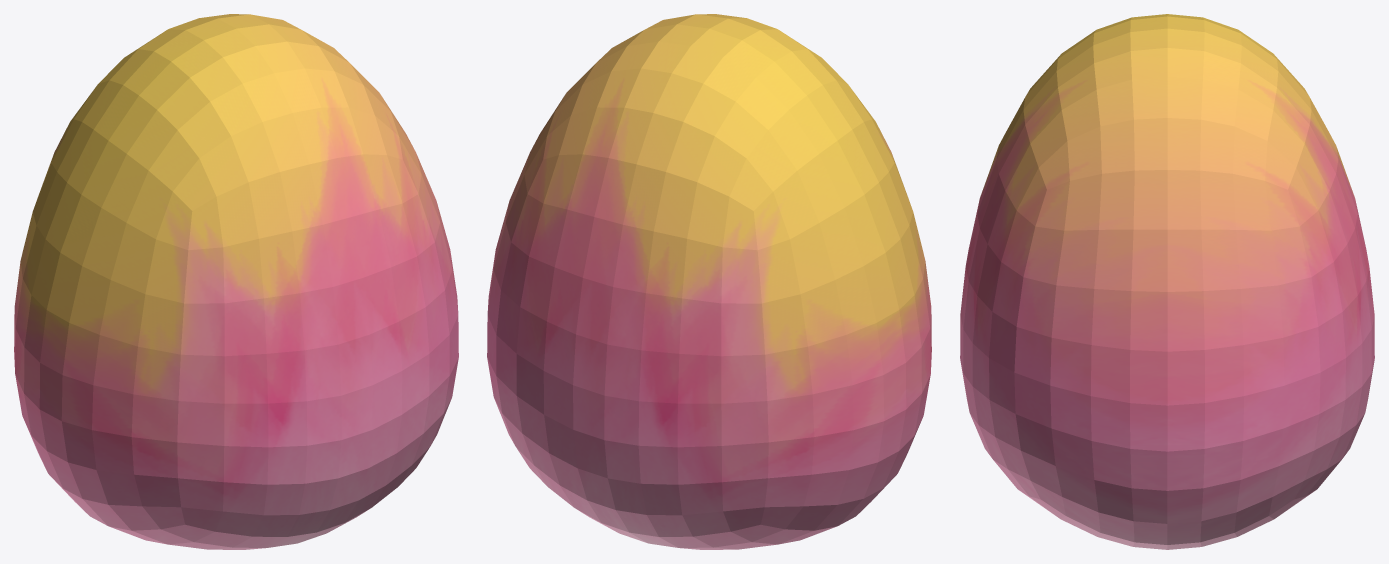
Rendered from Egg_Pink.fbx.
3 renders of one model, left to right at view 1: azimuth 30°, elevation 25°; view 2: azimuth 150°, elevation 25°; view 3: azimuth 270°, elevation 25°, orthographic.
Visible parts, largest first — view 1: Egg; view 2: Egg; view 3: Egg.
Part boxes in pixels (x1,y1,x2,y2): Egg: (14, 14, 458, 549); Egg: (487, 14, 931, 549); Egg: (960, 14, 1374, 549).
Size of the model in its own units: 210 by 256 by 195.
Materials: 1 (1 with a texture image).
